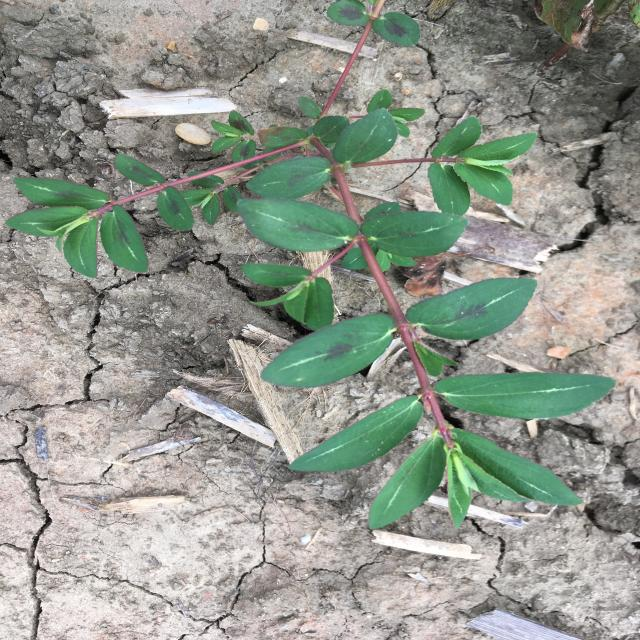SpottedSpurge: (5, 0, 617, 530)
